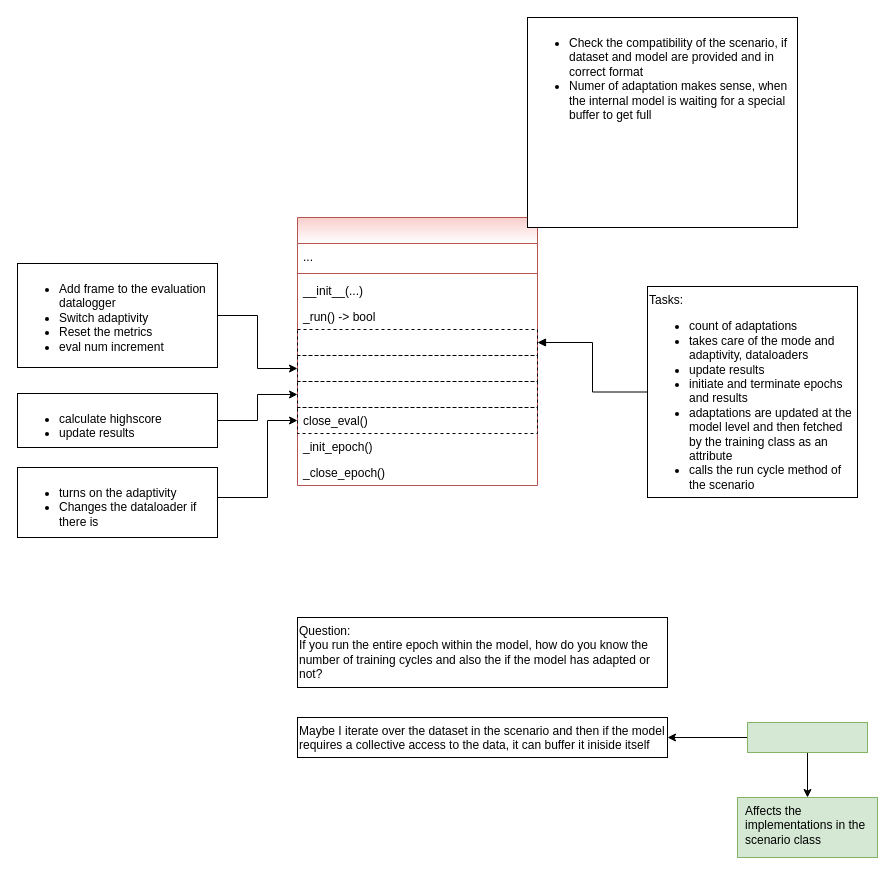
Some shapes in this 895 by 875 pixel diagram are drawn without their labels. The box of each missing label's shape, as (x1, y1, x2, y2) in pixels:
_init_eval(): (296, 354, 538, 382)
_run_cycle() -> bool, bool: (296, 328, 538, 356)
_update_eval(): (296, 380, 538, 408)
Makes more sense: (746, 722, 868, 752)
SLTraining(Training): (296, 216, 538, 486)
